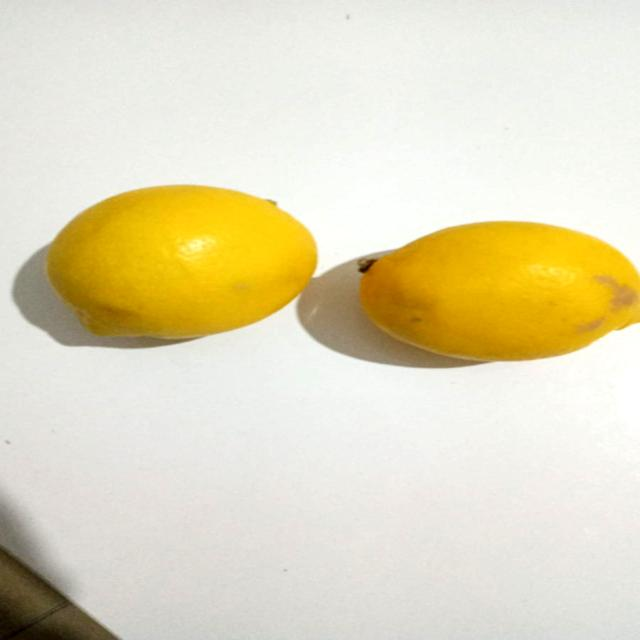lemon: (25, 174, 341, 353), (341, 203, 640, 374)
